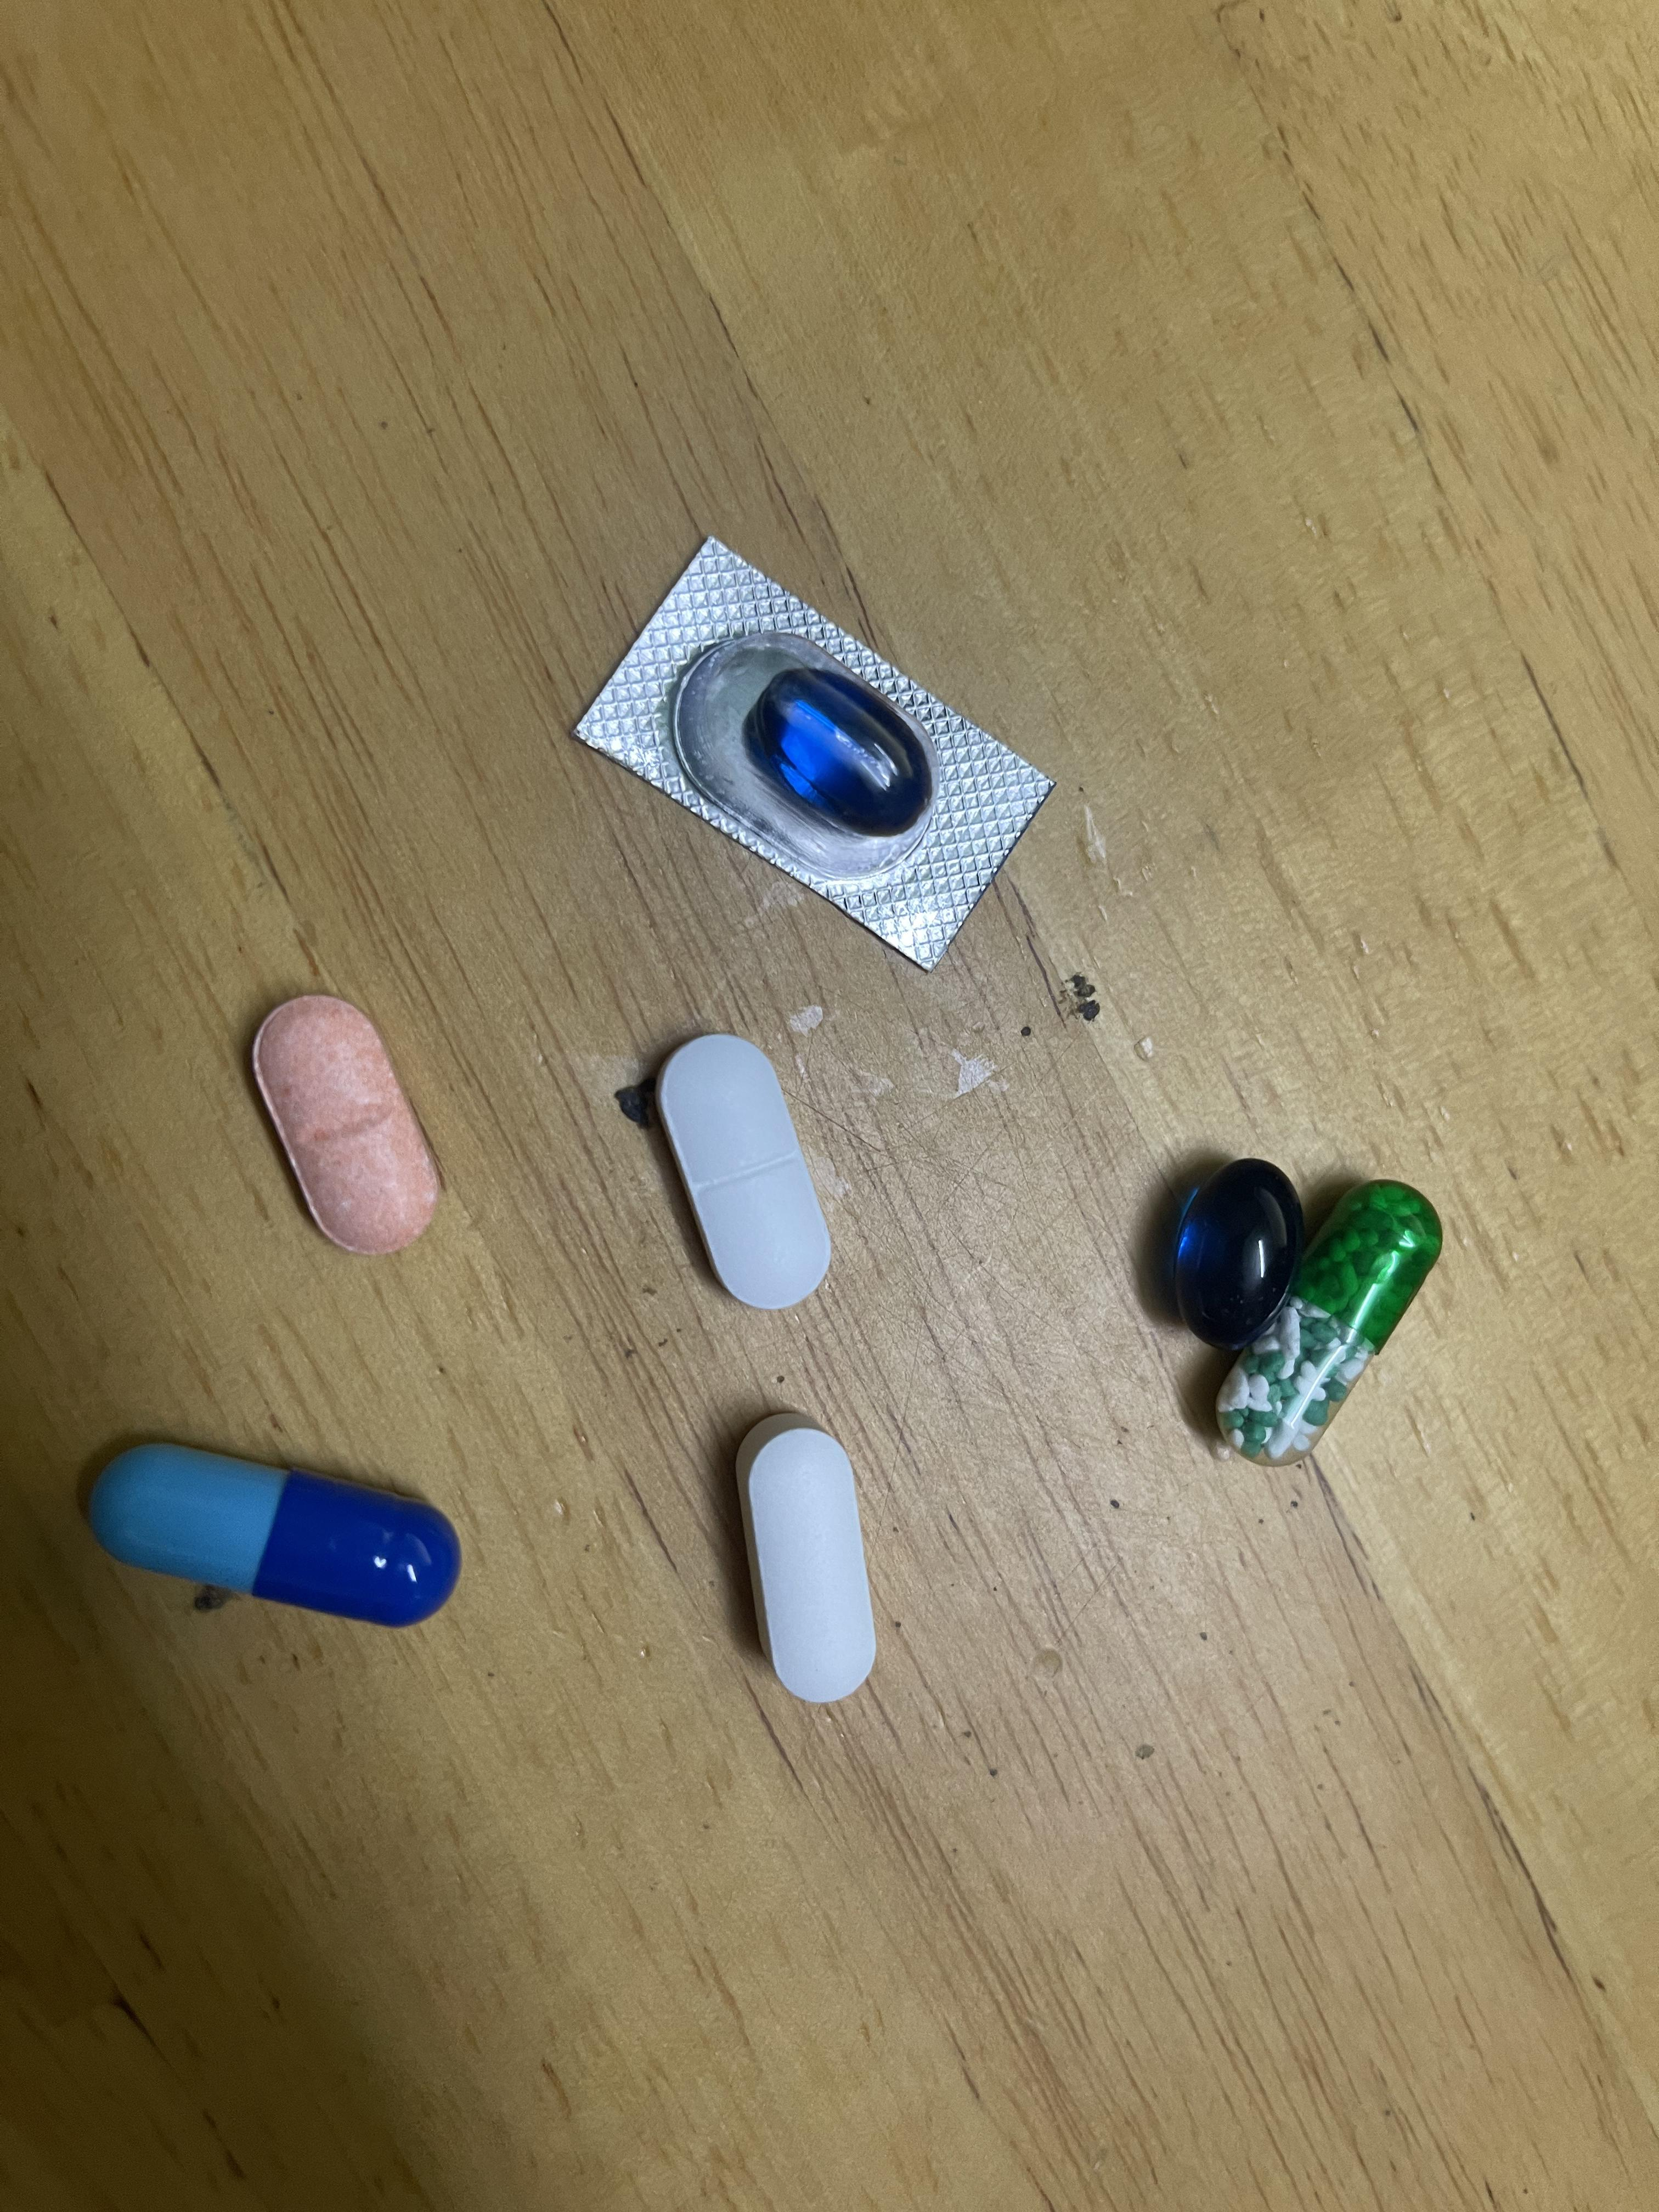Lincomyxin_500mg: (1168, 1158, 1295, 1343), (769, 688, 910, 820)
Loratadine_10mg: (251, 996, 441, 1254)
Paracetamol_350mg: (657, 1035, 831, 1308)
Paracetamol_500mg: (744, 1423, 877, 1700)
Paracetamol_650mg: (1211, 1184, 1446, 1460)
pill: (92, 1437, 457, 1623)
